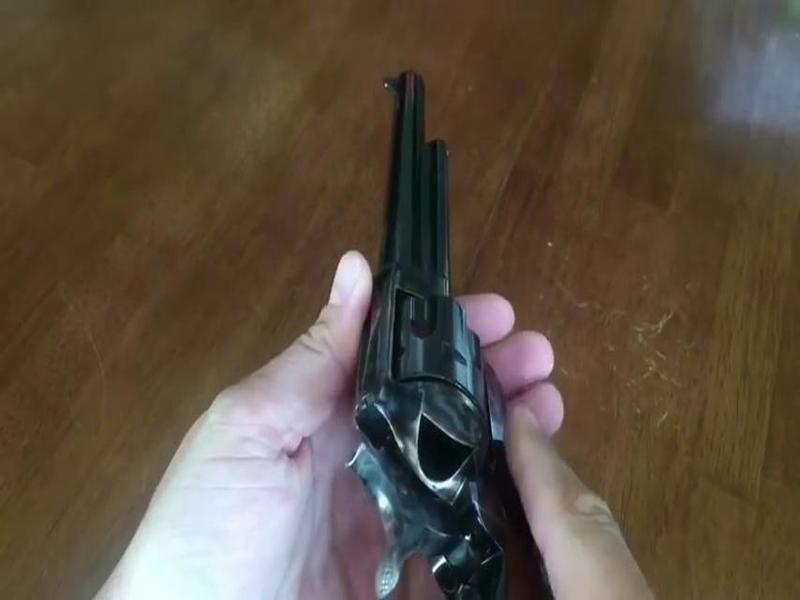Revolver: (327, 60, 550, 600)
